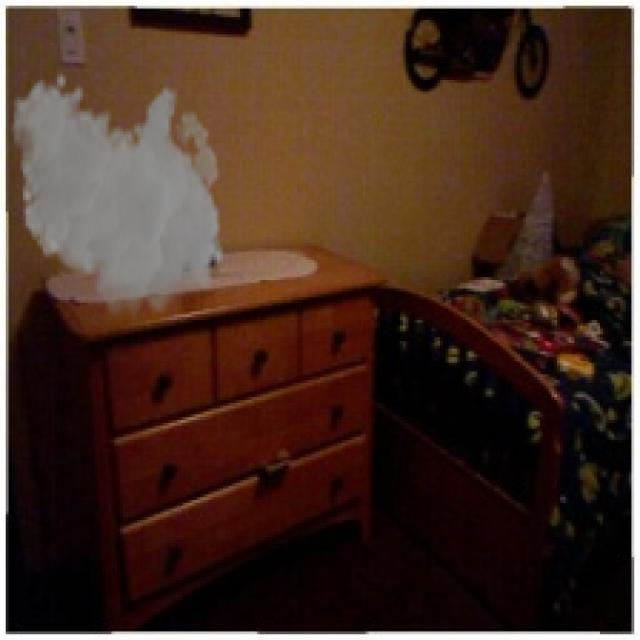smoke: (11, 71, 226, 326)
